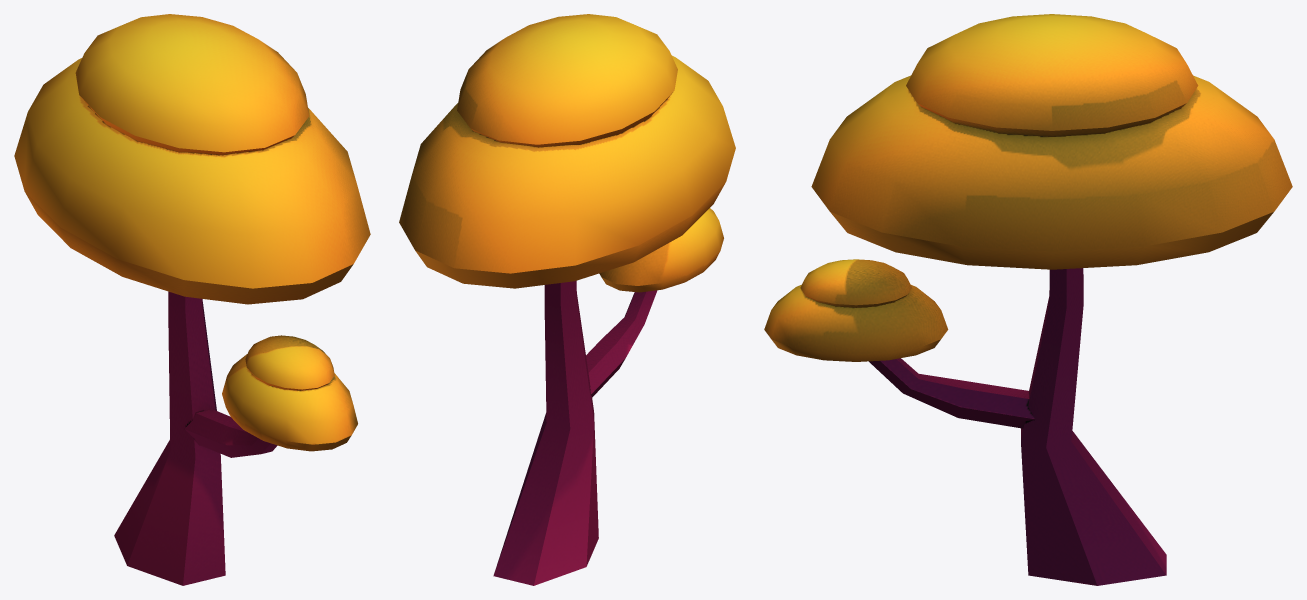
Rendered from autumntree.gltf.
3 renders of one model, left to right at view 1: azimuth 30°, elevation 25°; view 2: azimuth 150°, elevation 25°; view 3: azimuth 270°, elevation 25°, orthographic. The views are drawn at different scales.
Parts seen in each view (by area): view 1: Sphere; view 2: Sphere; view 3: Sphere.
Part boxes in pixels (x1,y1,x2,y2): Sphere: (14,14,370,585); Sphere: (399,14,735,585); Sphere: (764,14,1292,585).
Size of the model in its own units: 10.9 by 21.04 by 18.82.
1 material, 1 textured.
